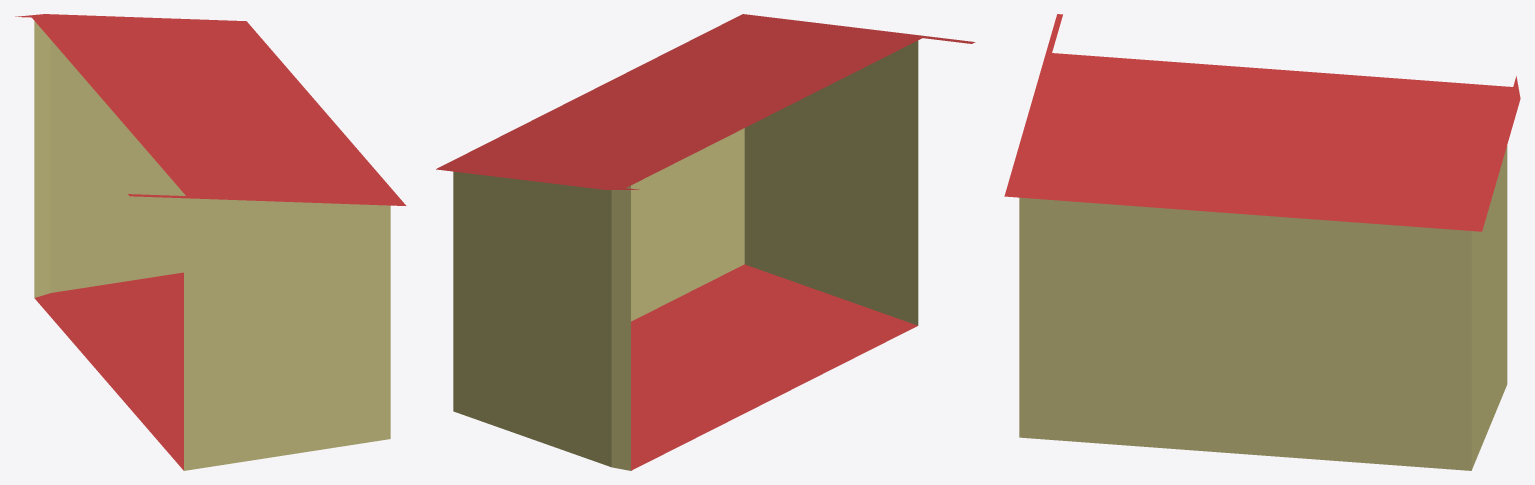
3 views of the same model, side by side, from view 1: azimuth 30°, elevation 25°; view 2: azimuth 150°, elevation 25°; view 3: azimuth 270°, elevation 25° (orthographic). The views are drawn at different scales.
Size of the model in its own units: 7.43 by 9.94 by 6.38.
